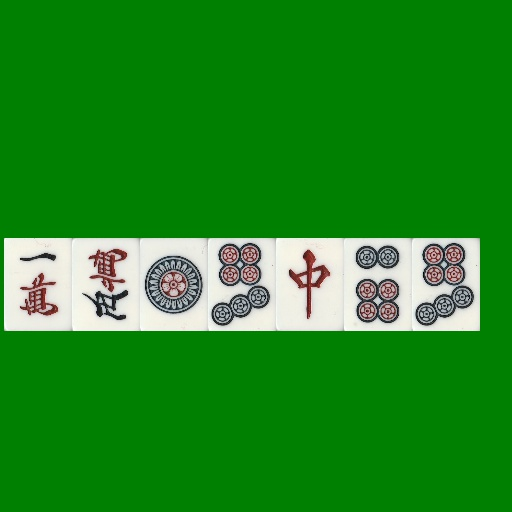1m: (4, 238, 72, 331)
1p: (140, 238, 208, 331)
5m: (72, 238, 140, 331)
6p: (344, 238, 412, 331)
7p: (208, 238, 276, 331), (412, 238, 480, 331)
tyun: (276, 238, 344, 331)
